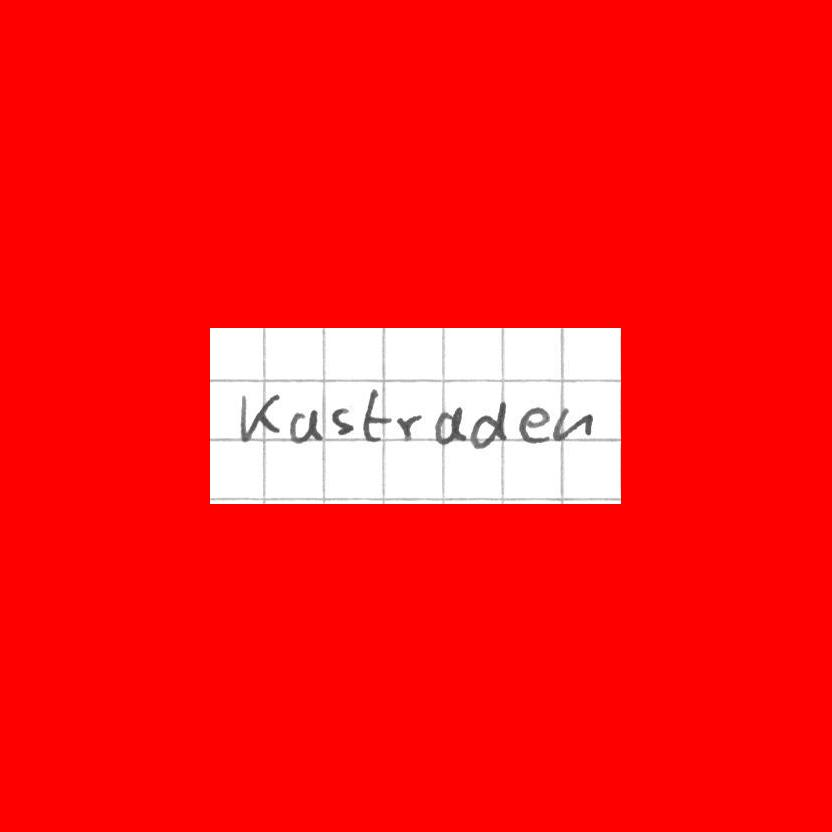Char: (238, 390, 282, 441), (470, 398, 511, 450), (432, 404, 468, 448), (360, 385, 386, 442), (288, 405, 324, 445), (553, 405, 591, 442), (517, 405, 550, 445), (393, 411, 422, 443), (331, 406, 354, 438)
